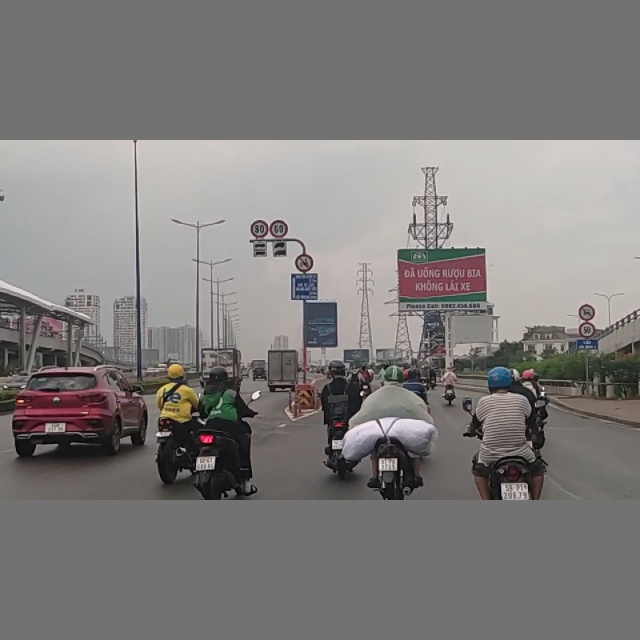P.103a: (579, 303, 596, 322)
P.104: (294, 253, 315, 272)
P.127*50: (580, 321, 595, 337)
P.127*60: (270, 221, 287, 238)
P.127*80: (251, 219, 267, 236)
